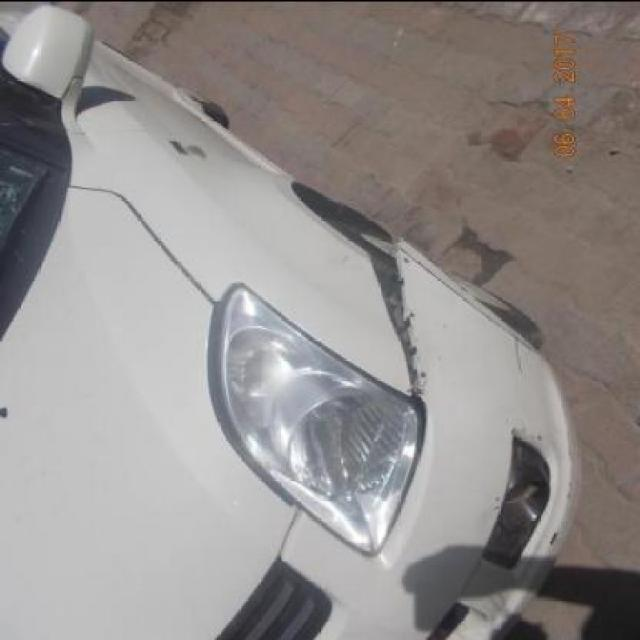damage: (416, 252, 537, 361), (359, 236, 425, 402)
